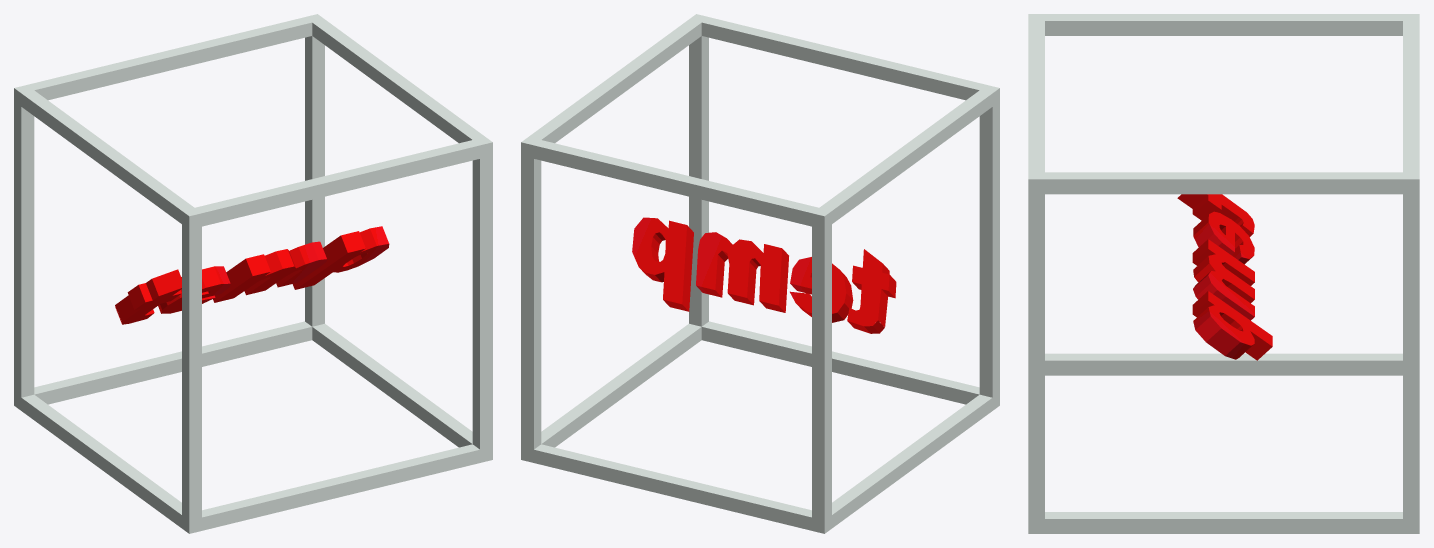
The picture shows the model from 3 angles, left to right: view 1: azimuth 30°, elevation 25°; view 2: azimuth 150°, elevation 25°; view 3: azimuth 270°, elevation 25°; orthographic projection. The views are drawn at different scales.
Size of the model in its own units: 16 by 16 by 16.
1 material, 1 textured.
